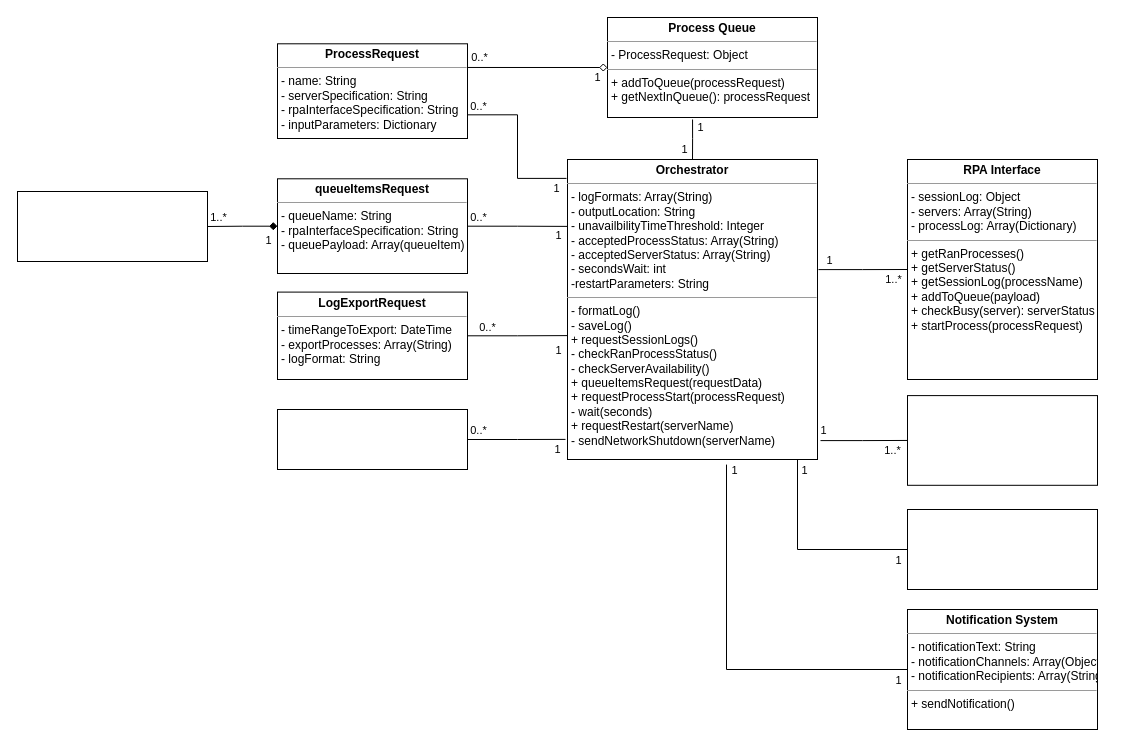
The diagram is 1122 pixels wide and 747 high, and some of its shapes have lost their labels. Here are the shapes that lost their labels. From the top down, the centre of each, then its label:
At point (112, 226): "queueItem - priority: Integer - data: Dictionary".
At point (372, 439): "RestartRequest - serverName: String".
At point (1002, 440): "Server + name: String - restart()".
At point (1002, 549): "File System + folder + saveFile()".
